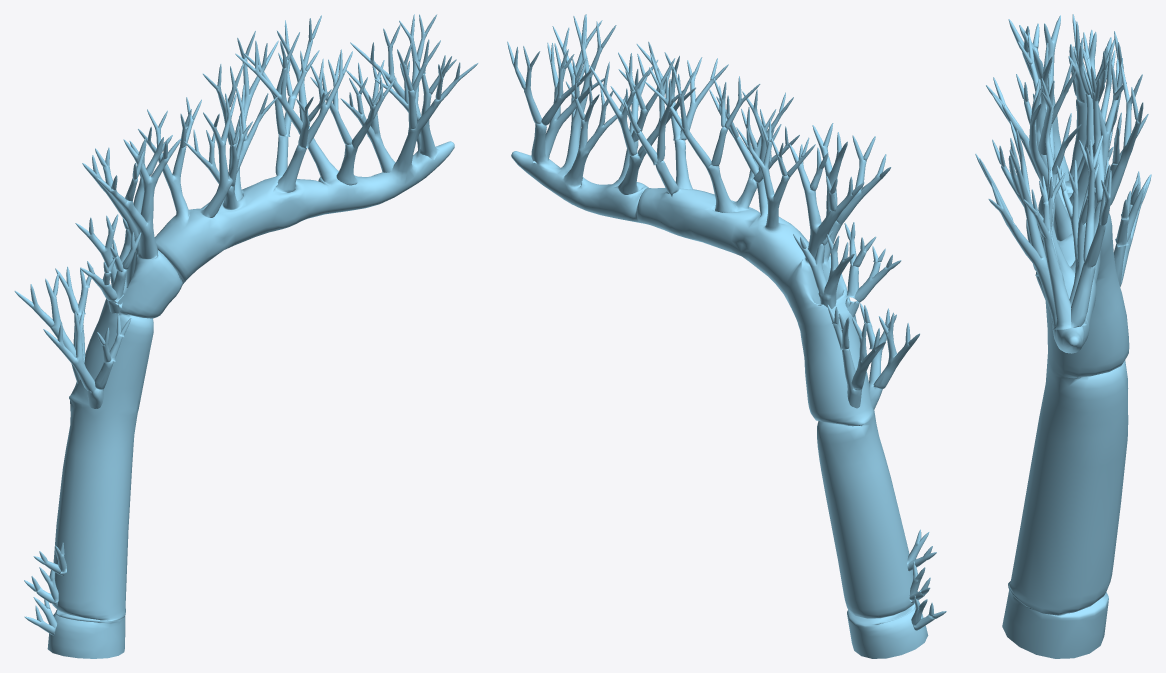
The model's file is tree.glb.
3 views of the same model, side by side, from view 1: azimuth 30°, elevation 25°; view 2: azimuth 150°, elevation 25°; view 3: azimuth 270°, elevation 25° (orthographic). The views are drawn at different scales.
Parts seen in each view (by area): view 1: CrystalCoral; view 2: CrystalCoral; view 3: CrystalCoral.
Part boxes in pixels (box(x1,y1,x2,y2)): CrystalCoral: box(14, 14, 478, 658); CrystalCoral: box(507, 14, 946, 658); CrystalCoral: box(975, 14, 1151, 658).
Bounding box in the file's own units: 8.31 × 10.18 × 2.26.
